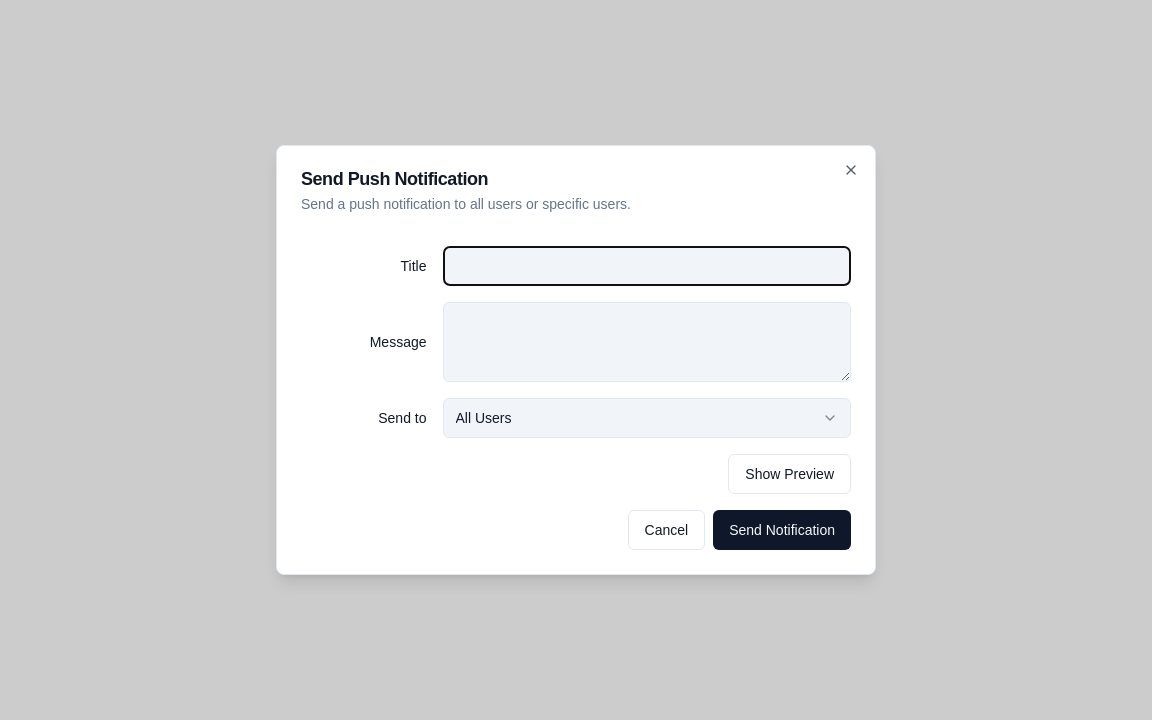
it: NotificationForm › toggles preview visibility when clicking show/hide button
Показываем предпросмотр
Click the button "Show Preview" at (790, 474), box [728, 454, 851, 494]
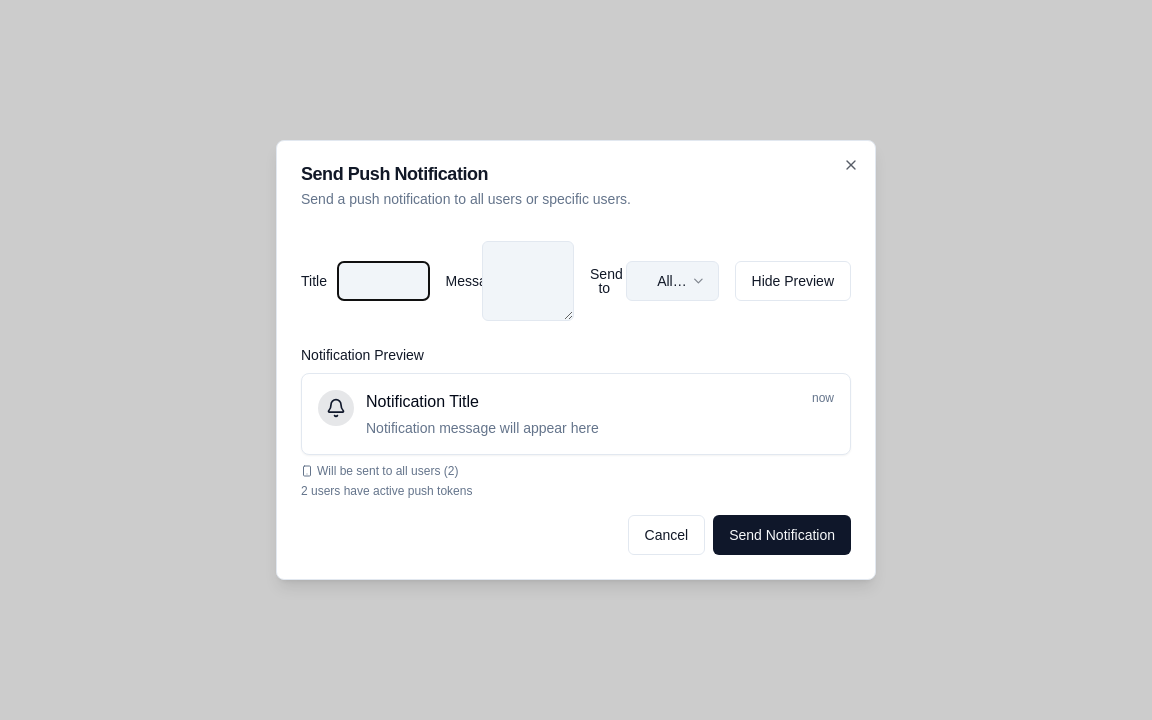
expect the heading "Notification Preview" is shown: met, box [301, 347, 424, 363]
Скрываем предпросмотр
Click the button "Hide Preview" at (793, 281), box [734, 261, 851, 301]
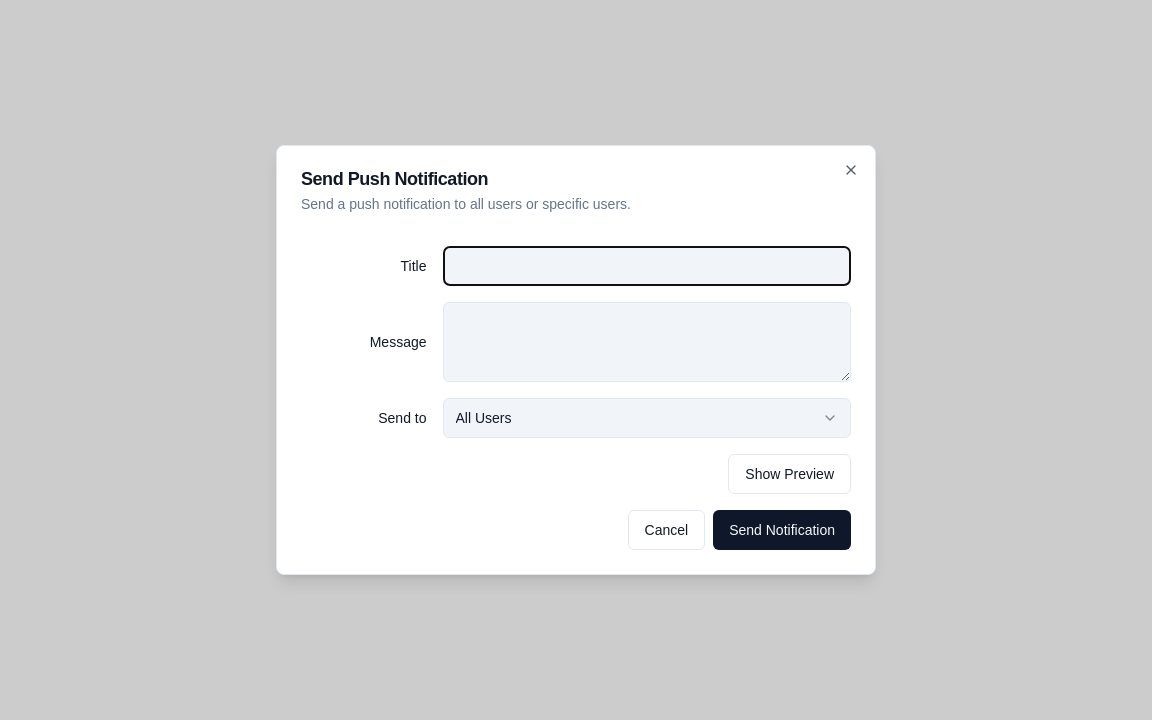
expect the heading "Notification Preview" is gone: met
